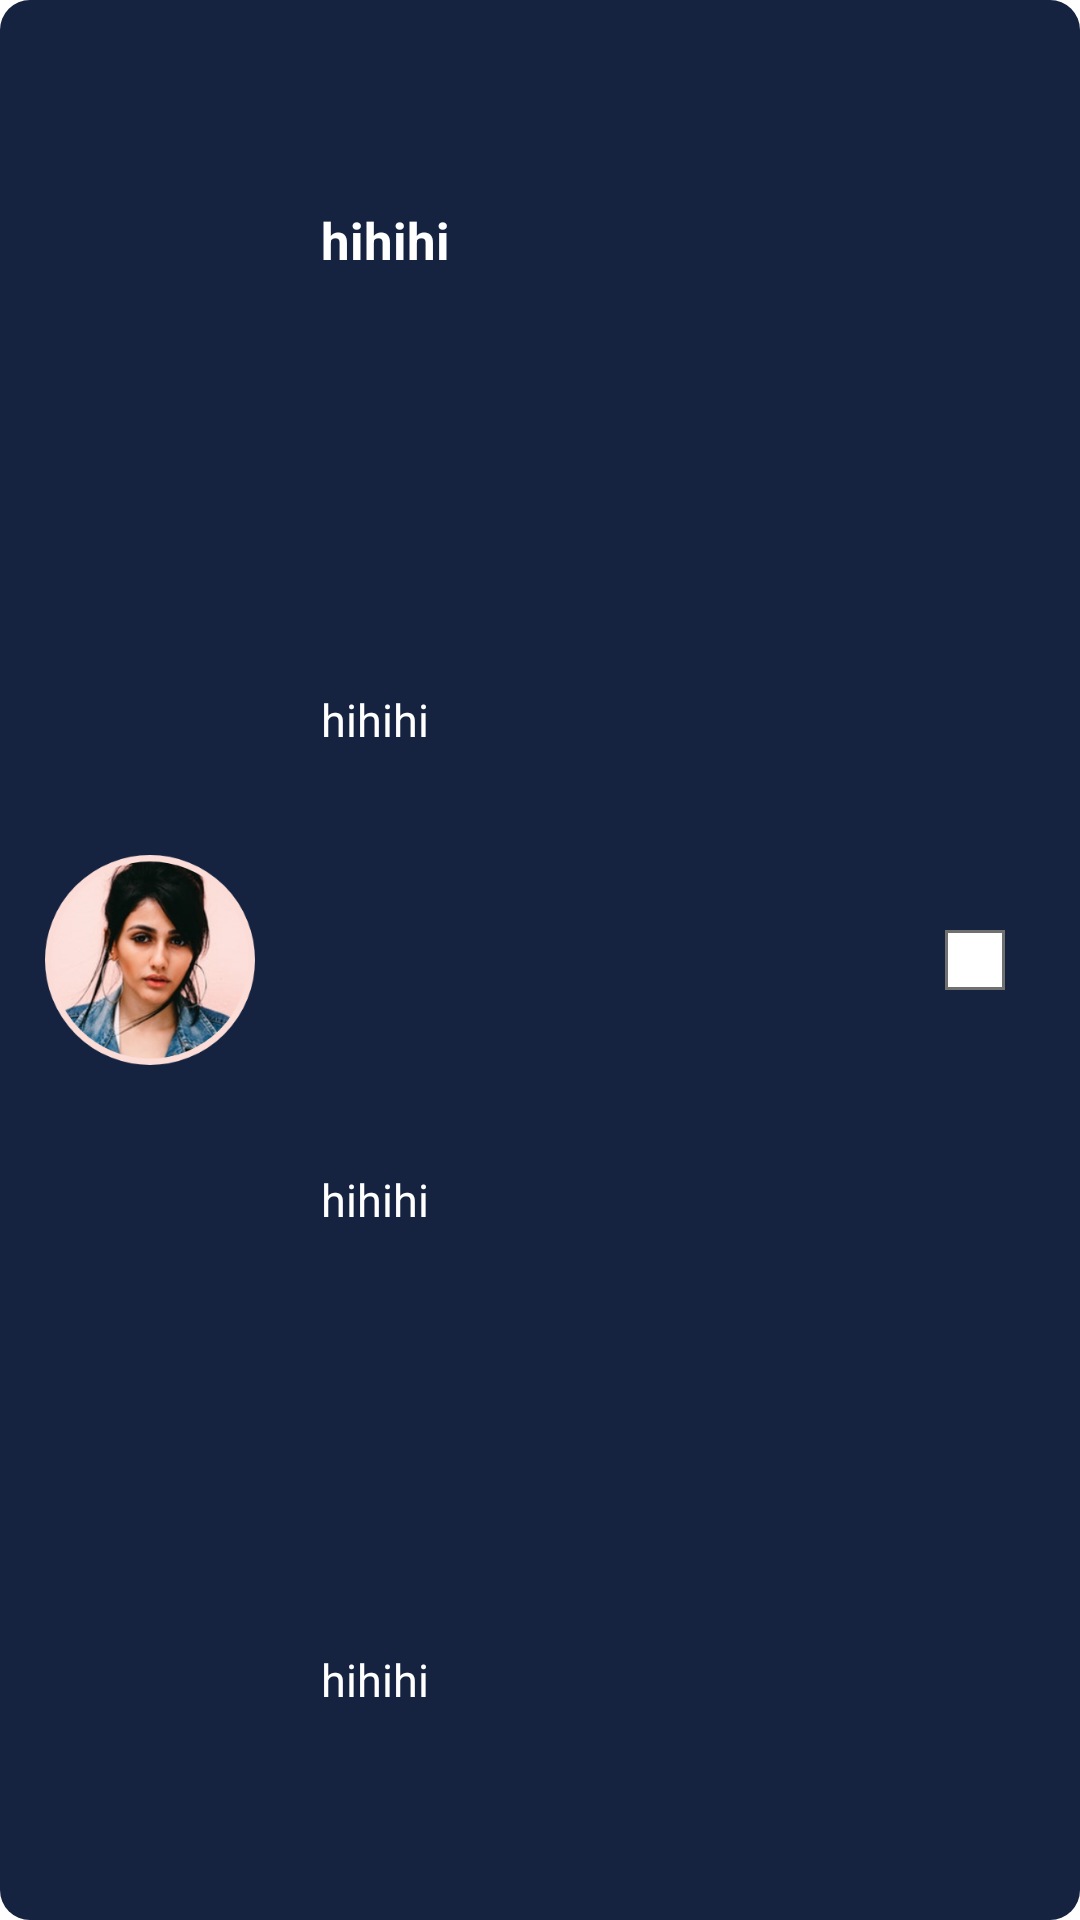

Icons on this 1080*1920 Android screen, each with the point to tap as point (x, y):
employee: point (150, 960)
